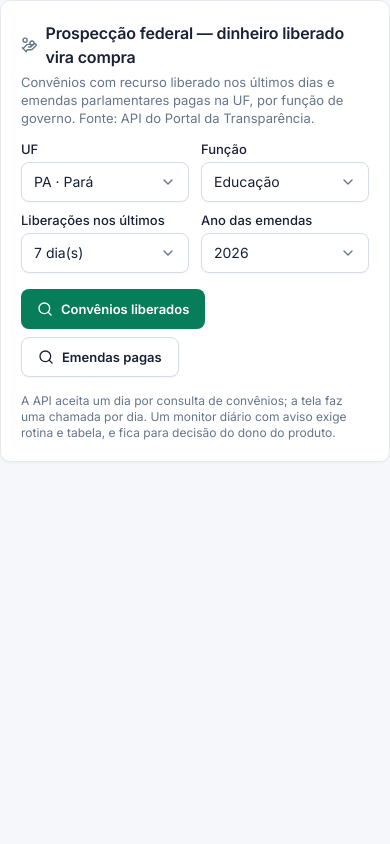
Test case: ProspeccaoFederal — dinheiro liberado vira compra › emendas: só as com gasto na UF ficam
What coordinates should you click on to do the following:
click the button "Emendas pagas"
I would click on:
 (100, 357)
Its box is [21,337,179,377].
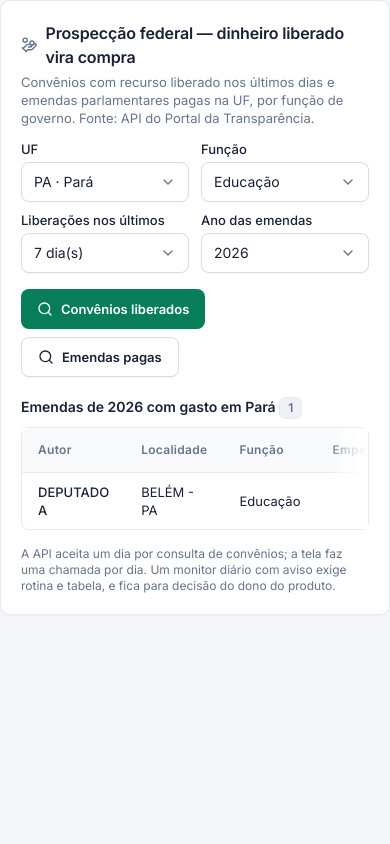
Check: the text "DEPUTADO A" is shown, box [22,472,125,528]
